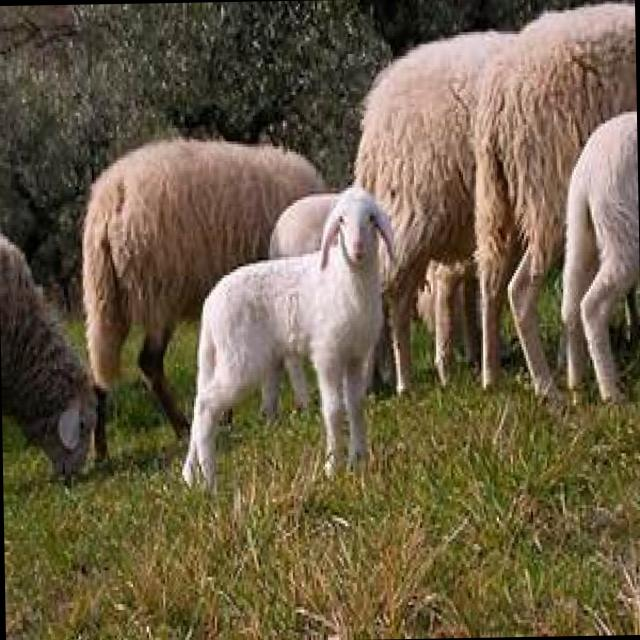sheep: (179, 185, 402, 481)
